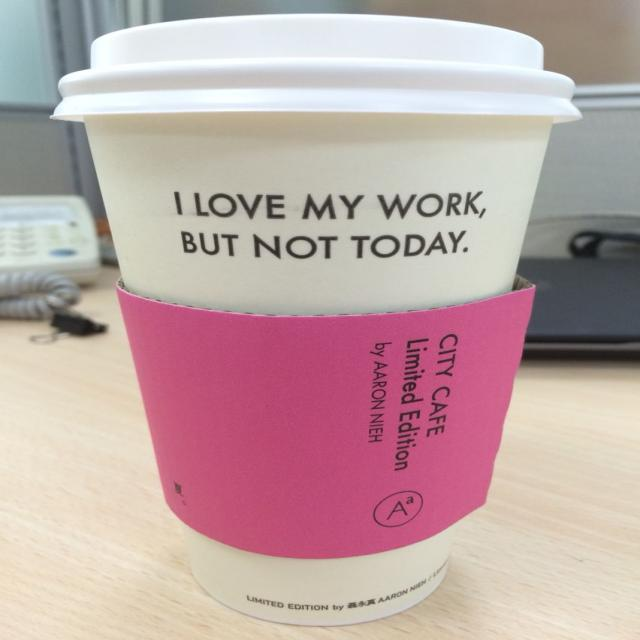paper cup: (49, 13, 582, 628)
